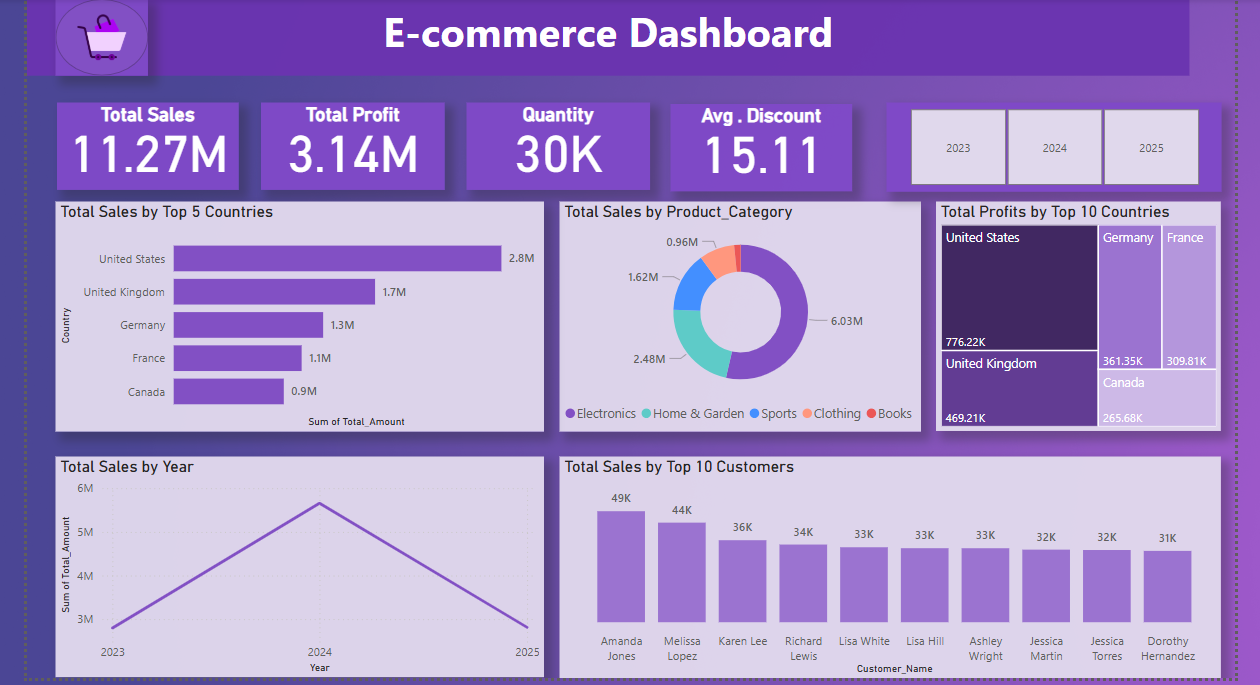

The page's visual inventory and layout, read from the dashboard file:
{"tool":"powerbi","page":{"name":"Page 1","canvas":[1280,720],"ordinal":0},"visuals":[{"type":"textbox","box":[0,0,1232.7,81.1],"z":0},{"type":"card","title":"Total Profit","fields":{"Values":["Sum(Ecommerce_Dataset.Profit)"]},"box":[247.6,109.6,194.6,92.6],"z":1000},{"type":"card","title":"Quantity","fields":{"Values":["Sum(Ecommerce_Dataset.Quantity)"]},"box":[466.8,109.6,194.6,92.6],"z":2000},{"type":"card","title":"Total Sales","fields":{"Values":["Sum(Ecommerce_Dataset.Total_Amount)"]},"box":[32.1,109.6,192.8,92.6],"z":3000},{"type":"card","title":"Avg . Discount","fields":{"Values":["Avg(Ecommerce_Dataset.Discount_Percent)"]},"box":[682.2,111.5,192.8,92.6],"z":4000},{"type":"donutChart","title":"  Total Sales by Product_Category","fields":{"Y":["Sum(Ecommerce_Dataset.Total_Amount)"],"Category":["Ecommerce_Dataset.Product_Category"]},"box":[565,215.4,383.6,243.8],"z":5000},{"type":"lineChart","title":"Total Sales  by Year","fields":{"Category":["Ecommerce_Dataset.Order_Date.Variation.Date Hierarchy.Year","Ecommerce_Dataset.Order_Date.Variation.Date Hierarchy.Quarter","Ecommerce_Dataset.Order_Date.Variation.Date Hierarchy.Month","Ecommerce_Dataset.Order_Date.Variation.Date Hierarchy.Day"],"Y":["Sum(Ecommerce_Dataset.Total_Amount)"]},"box":[30.2,485.7,517.8,234.3],"z":6000},{"type":"barChart","title":" Total Sales by Top 5 Countries","fields":{"Category":["Ecommerce_Dataset.Country"],"Y":["Sum(Ecommerce_Dataset.Total_Amount)"]},"box":[30.2,215.4,517.8,243.8],"z":7000},{"type":"slicer","fields":{"Values":["Ecommerce_Dataset.Order_Date.Variation.Date Hierarchy.Year"]},"box":[910.9,109.6,355.3,94.5],"z":8000},{"type":"shape","box":[30.2,0,98.3,81.3],"z":9000},{"type":"image","box":[15.1,0,128.5,81.3],"z":10000},{"type":"columnChart","title":"Total Sales by Top 10 Customers","fields":{"Category":["Ecommerce_Dataset.Customer_Name"],"Y":["Sum(Ecommerce_Dataset.Total_Amount)"]},"box":[564.7,485.1,701.5,235.4],"z":11000},{"type":"treemap","title":"Total Profits by Top 5 Countries","fields":{"Group":["Ecommerce_Dataset.Country"],"Values":["Sum(Ecommerce_Dataset.Profit)"]},"box":[963.9,214.7,302.2,243.4],"z":12000}]}

Visuals, with their boxes on the page's 1280x720 design canvas (x1, y1, x2, y2). These are canvas units, not pixel positions in the 1260x685 screenshot, which may show the page scaled, cropped or inside an application window:
textbox: pyautogui.locateOnScreen(0, 0, 1233, 81)
"Total Profit" card: pyautogui.locateOnScreen(248, 110, 442, 202)
"Quantity" card: pyautogui.locateOnScreen(467, 110, 661, 202)
"Total Sales" card: pyautogui.locateOnScreen(32, 110, 225, 202)
"Avg . Discount" card: pyautogui.locateOnScreen(682, 112, 875, 204)
"  Total Sales by Product_Category" donutChart: pyautogui.locateOnScreen(565, 215, 949, 459)
"Total Sales  by Year" lineChart: pyautogui.locateOnScreen(30, 486, 548, 720)
" Total Sales by Top 5 Countries" barChart: pyautogui.locateOnScreen(30, 215, 548, 459)
slicer - Ecommerce_Dataset.Order_Date.Variation.Date Hierarchy.Year: pyautogui.locateOnScreen(911, 110, 1266, 204)
shape: pyautogui.locateOnScreen(30, 0, 128, 81)
image: pyautogui.locateOnScreen(15, 0, 144, 81)
"Total Sales by Top 10 Customers" columnChart: pyautogui.locateOnScreen(565, 485, 1266, 720)
"Total Profits by Top 5 Countries" treemap: pyautogui.locateOnScreen(964, 215, 1266, 458)
